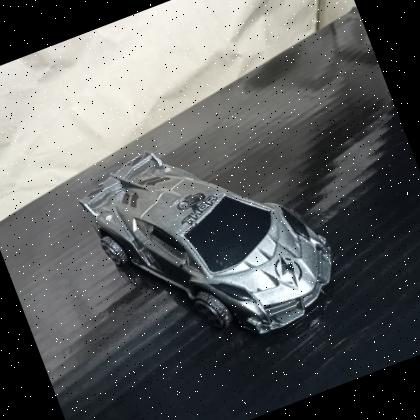Car: (65, 94, 357, 384)
